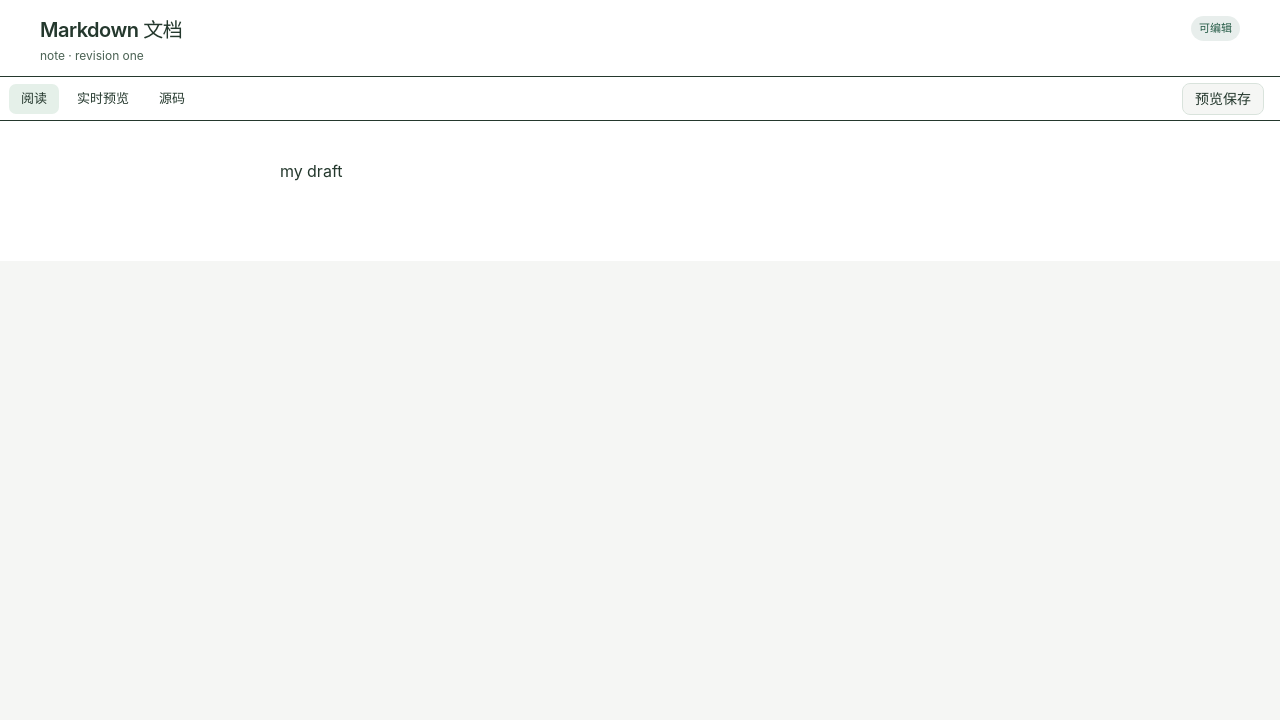
Test: keeps conflict drafts and requires original-result lookup
Click the button "预览保存" at (1223, 98), box [1182,82,1264,114]
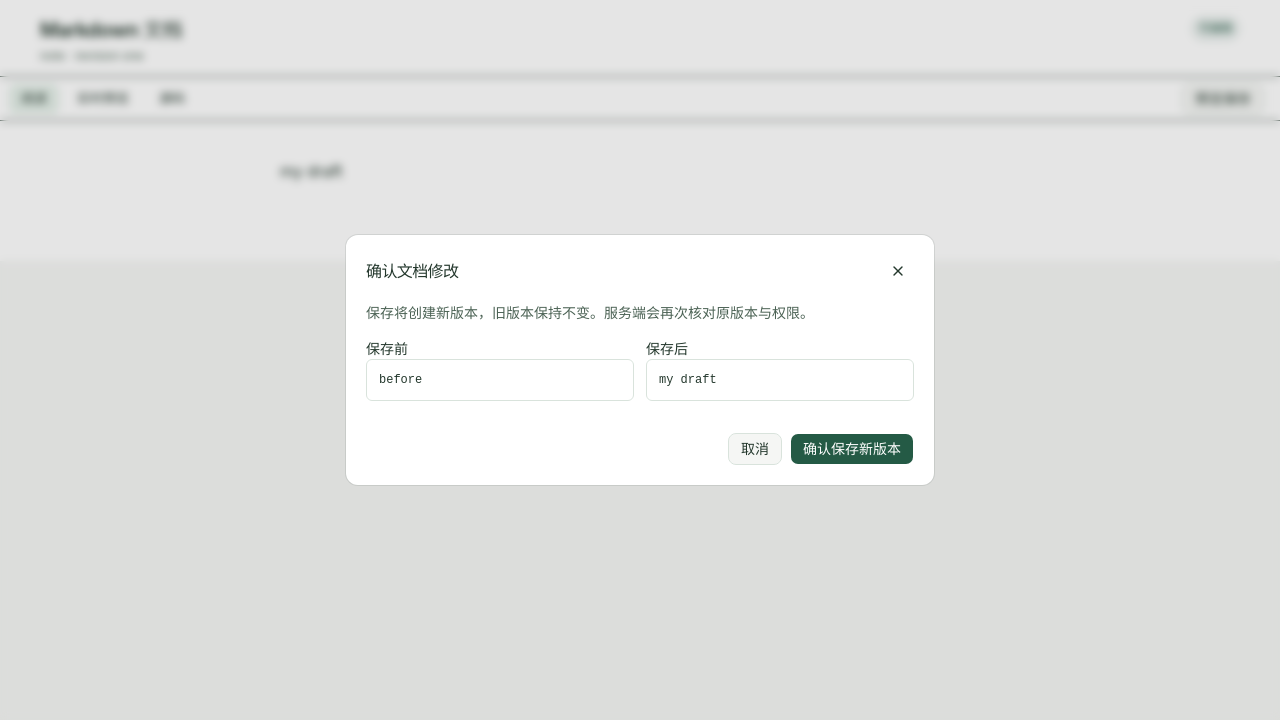
Click the button "确认保存新版本" at (852, 449), box [790,433,914,465]
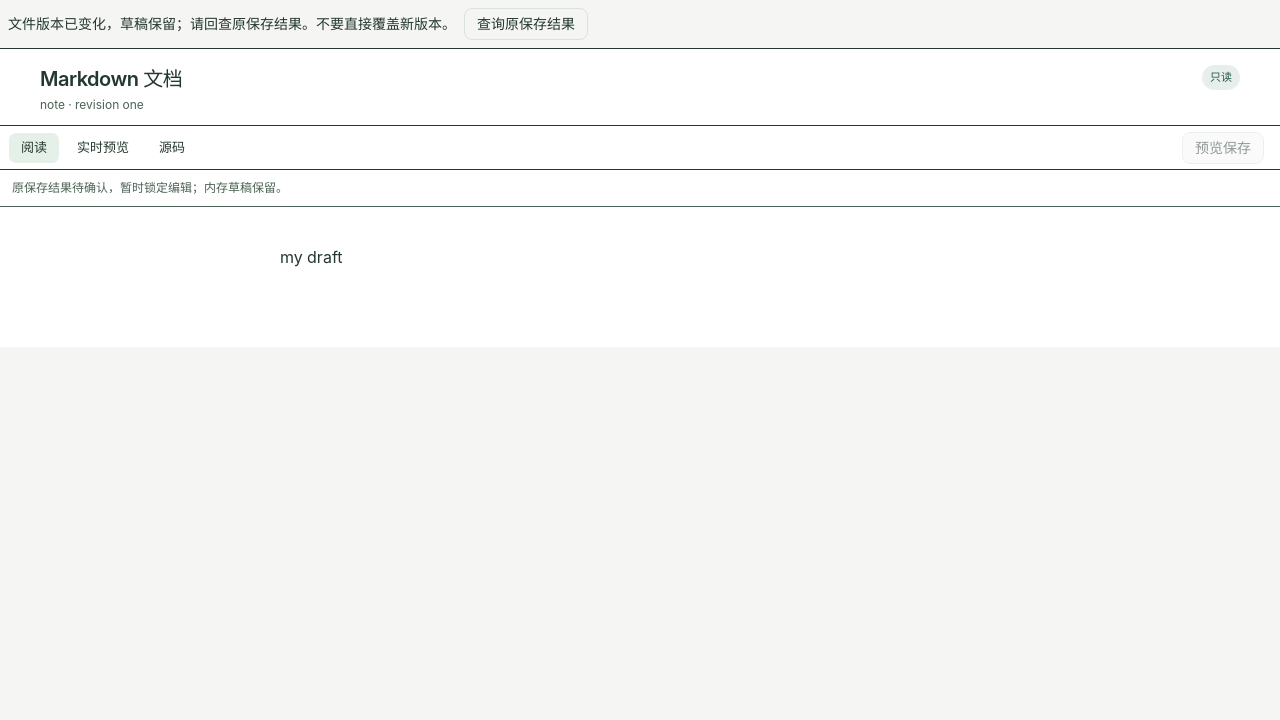
Expected: the text "my draft" is shown, [280,247,342,267]
Now the text "文件版本已变化，草稿保留；请回查原保存结果。不要直接覆盖新版本。" is shown, box [8,14,456,34]
